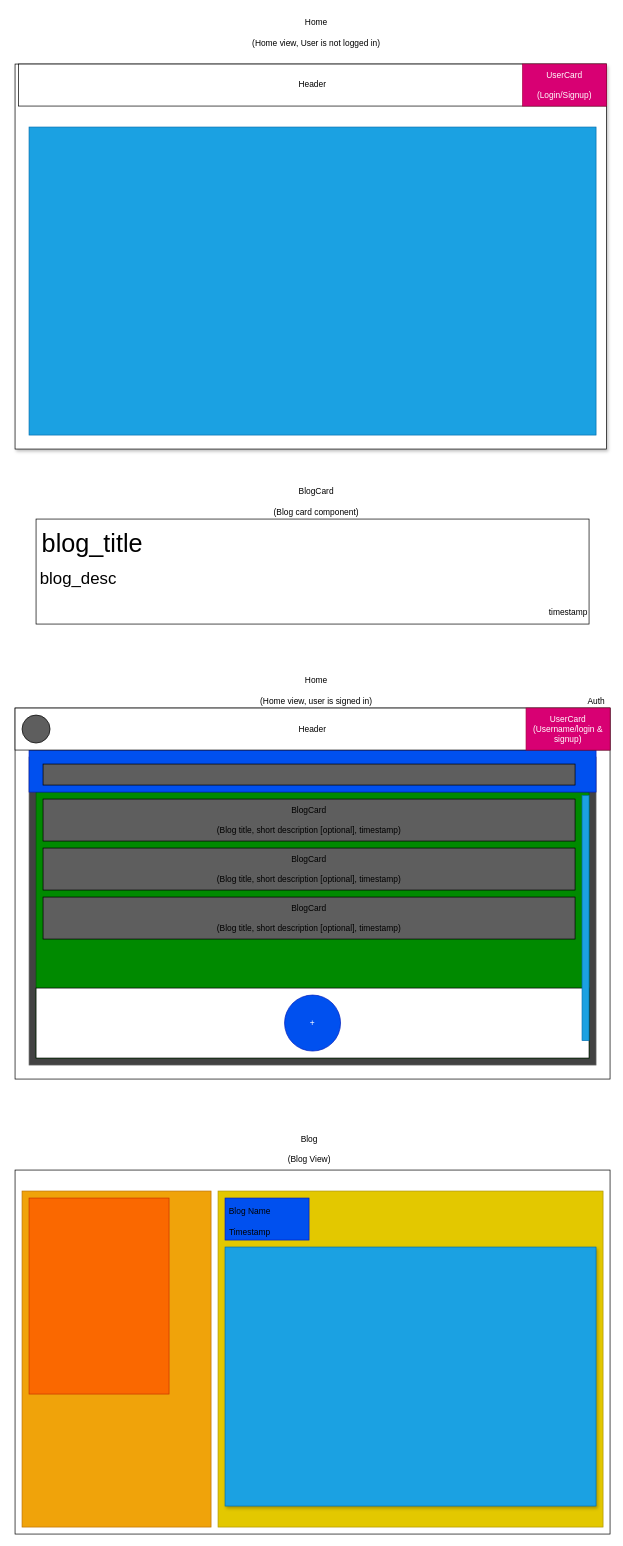
Some shapes in this 623 by 1546 pixel diagram are drawn without their labels. Each missing label, with the centre of its shape:
AuthorCard (Shows author's picture, name, likes) CSS: Fixed: point (98, 1295)
Logo: point (35, 728)
Search: point (308, 774)
Welcome (Has welcome message, prompts user to signup or login): point (312, 280)
